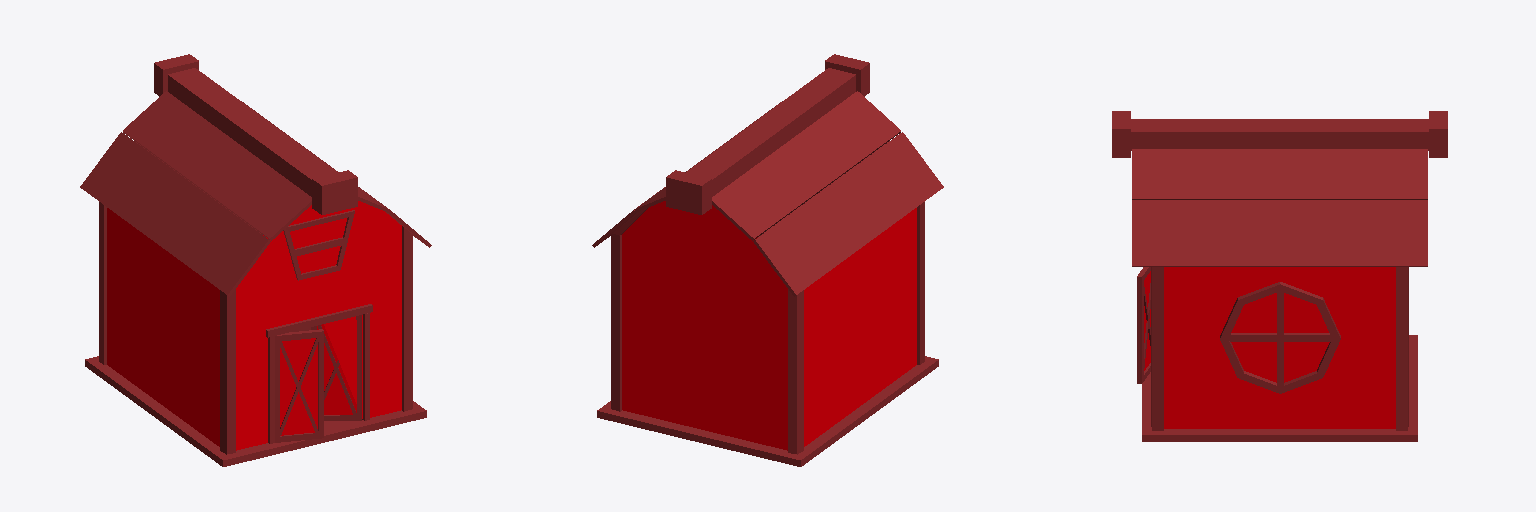
3 renders of one model, left to right at view 1: azimuth 30°, elevation 25°; view 2: azimuth 150°, elevation 25°; view 3: azimuth 270°, elevation 25°, orthographic.
Parts seen in each view (by area): view 1: Cube.005; view 2: Cube.005; view 3: Cube.005.
Boxes of the visible parts, <box> form: Cube.005: <box>80,54,431,466</box>; Cube.005: <box>592,54,943,466</box>; Cube.005: <box>1112,111,1447,441</box>.
Bounding box in the file's own units: 2.5 × 3.17 × 3.56.
Materials: 4 (3 with a texture image).